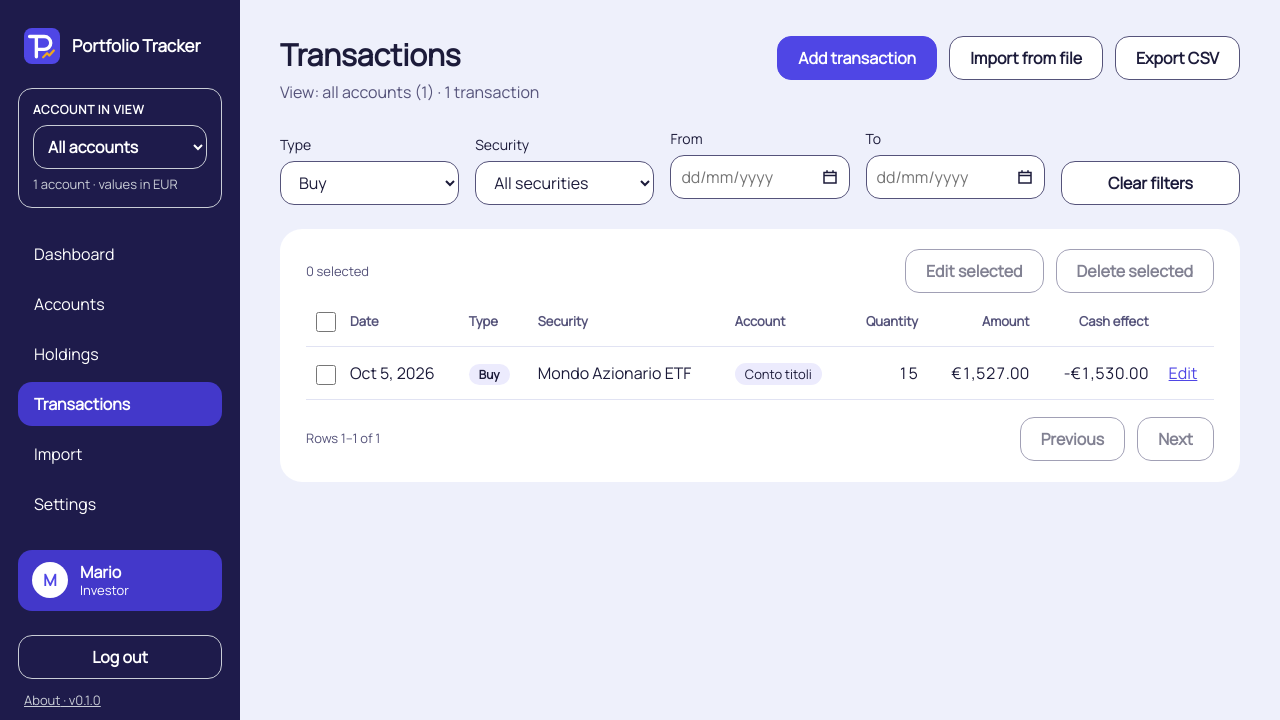
edit page › opens with the stored values and saves one edit with the stored gross and reference
Click the link with aria-label "Edit: Buy, Mondo Azionario ETF, Oct 5, 2026" at x=1183, y=374, box [1169,362,1197,384]
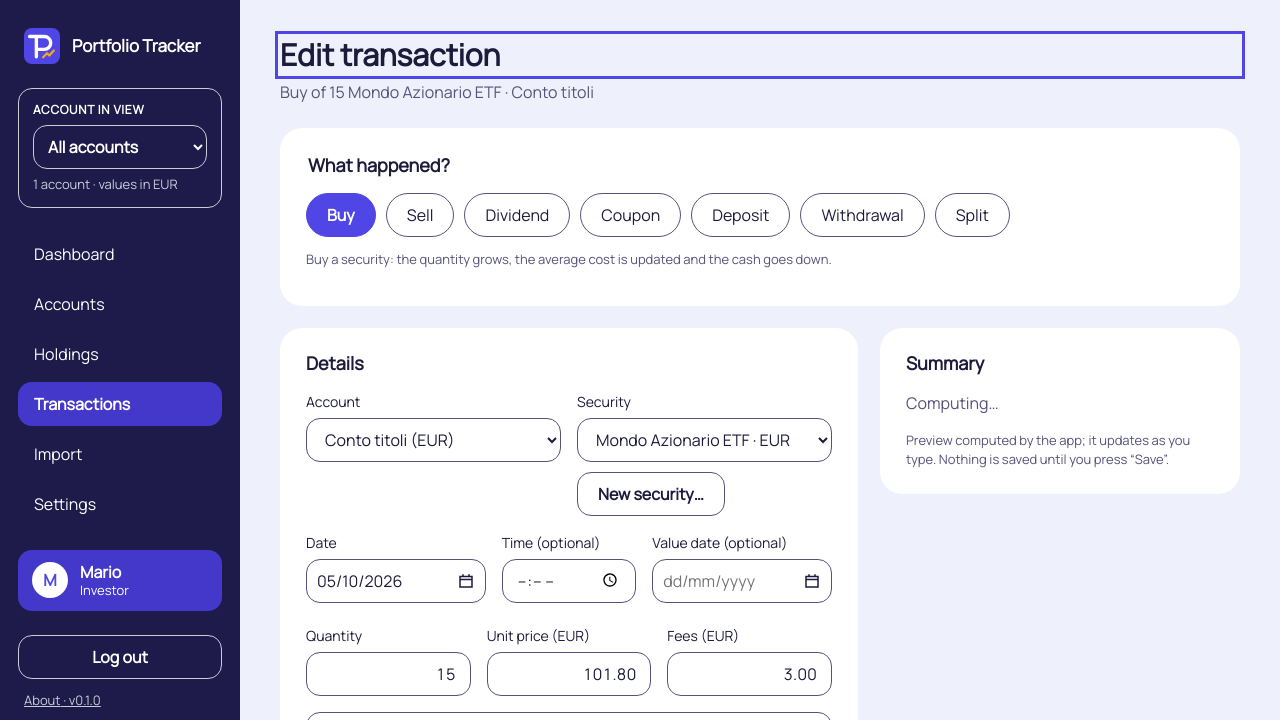
expect the heading "Edit transaction" is shown: met, box [280,34,500,75]
expect the field labelled "Quantity" holds "15": met, box [306,652,471,696]
expect the text "Buy of 15 Mondo Azionario ETF · Conto titoli" is shown: met, box [280,80,594,102]
Replace the text in the field labelled "Fees (EUR)" with "4.00" at x=750, y=674, box [667,652,832,696]
(page scrolled)
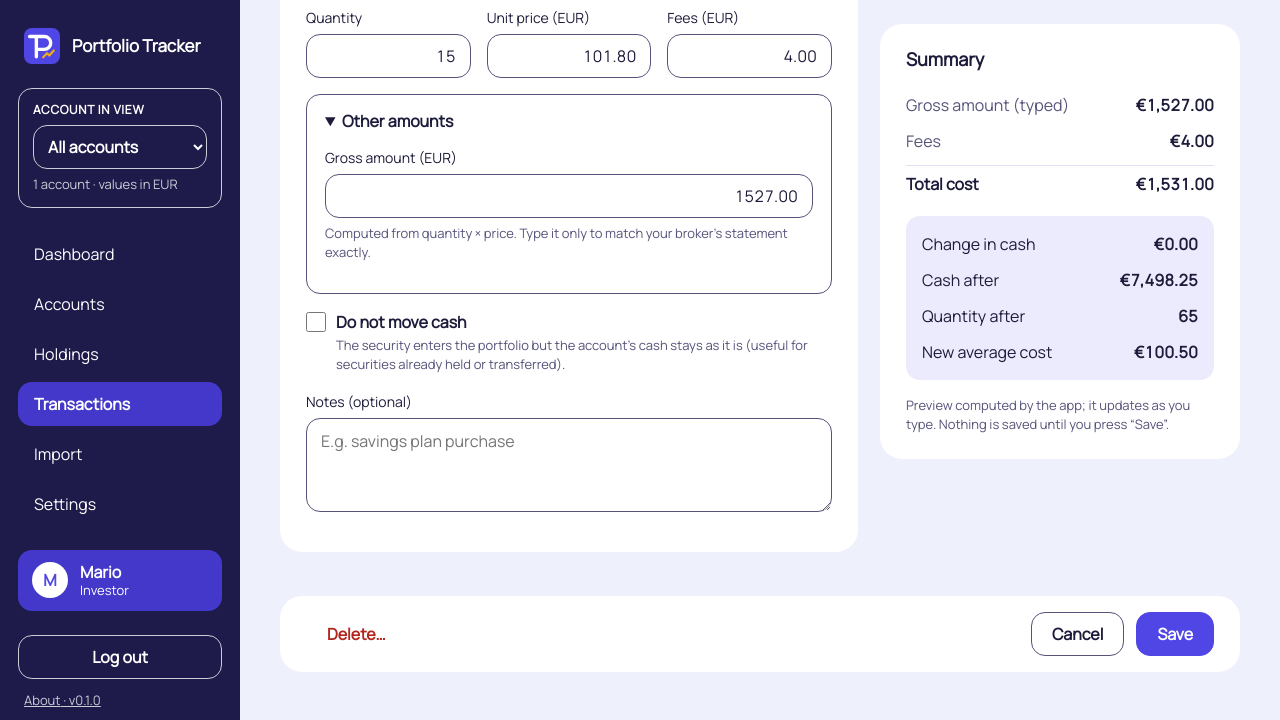
expect the text "Change in cash" is shown: met, box [922,232,1035,256]
Click the button "Save" at x=1175, y=634, box [1136,612,1214,656]
(page scrolled)
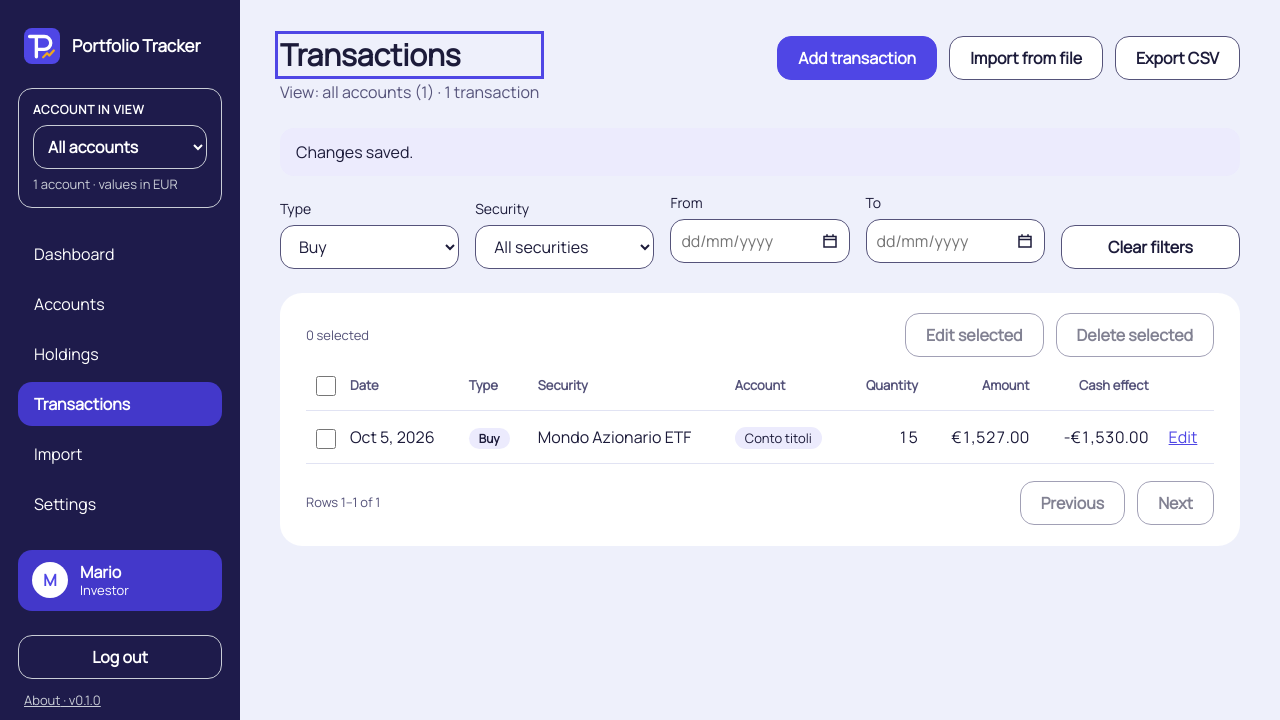
expect the text "Changes saved." is shown: met, box [296,140,413,162]
